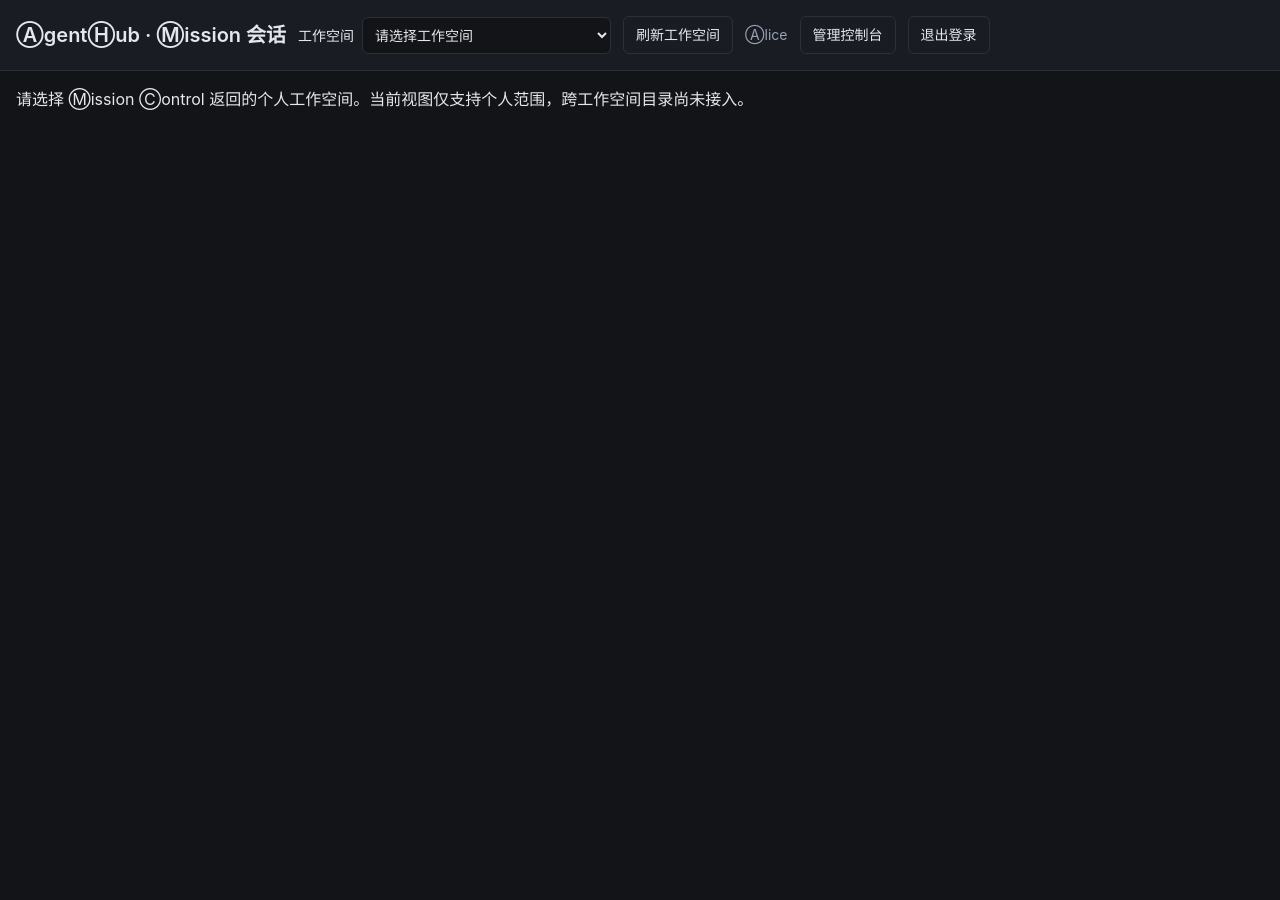
Test case: Native Mission workspace › observes a selected exact native Mission with no submission and keeps history read-only
Select "个人工作空间 (workspace-1)" in the dropdown labelled "工作空间". click: (487, 35)
box: [362,16,611,54]
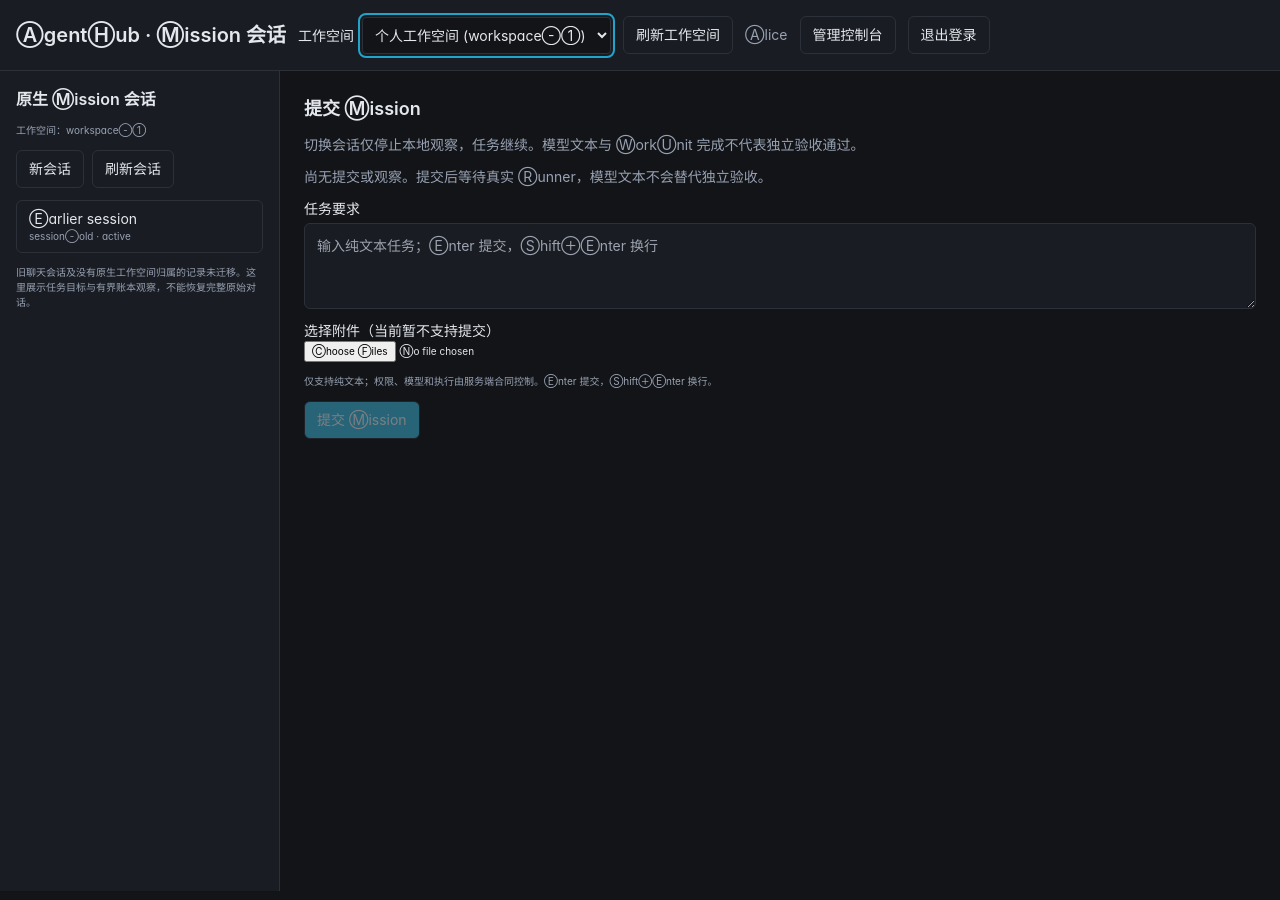
Type "old unsent draft" into the text box labelled "任务要求". click: (780, 266)
box: [304,223,1256,309]
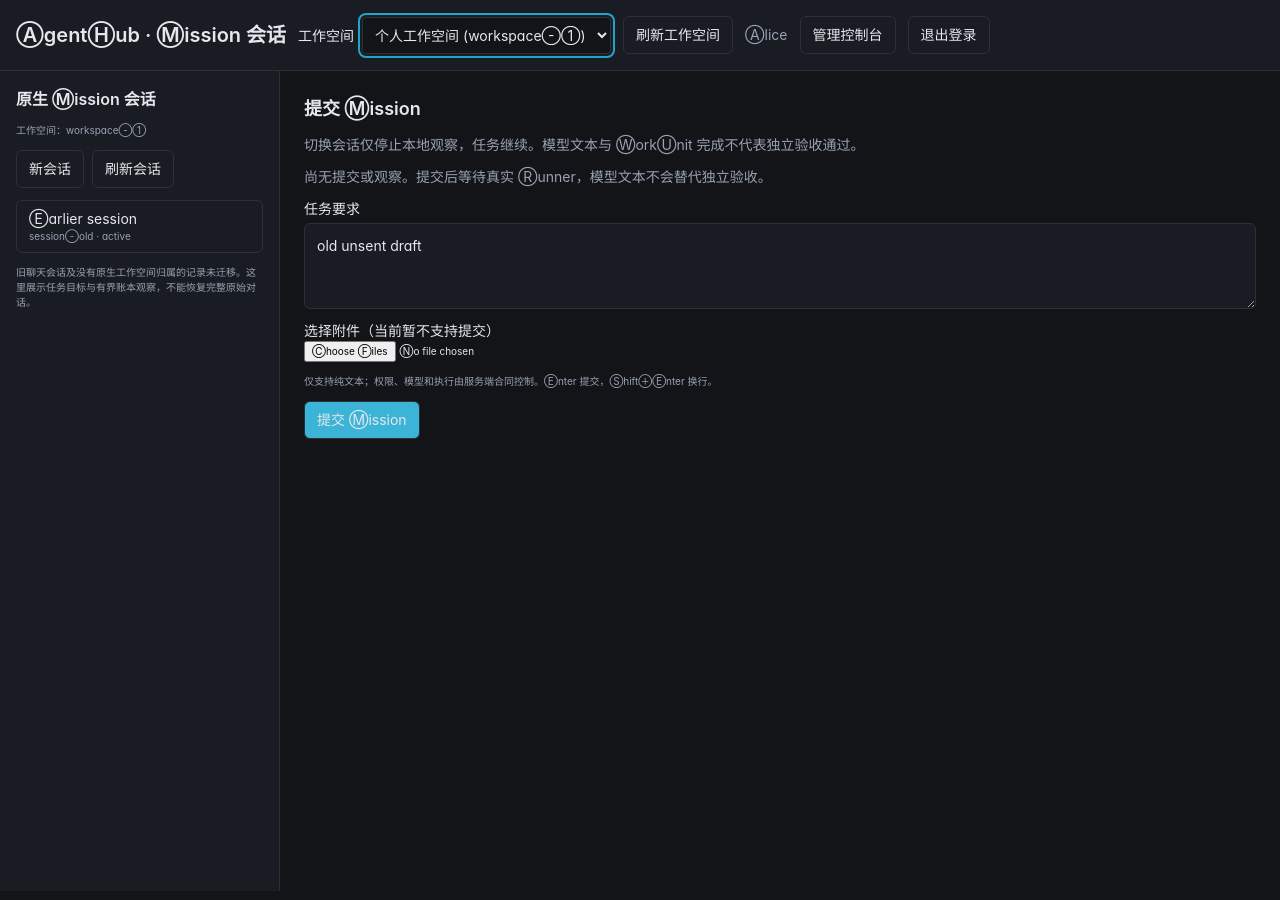
Click the button with aria-label "打开会话 Earlier session". click: (140, 226)
box: [16,200,263,253]
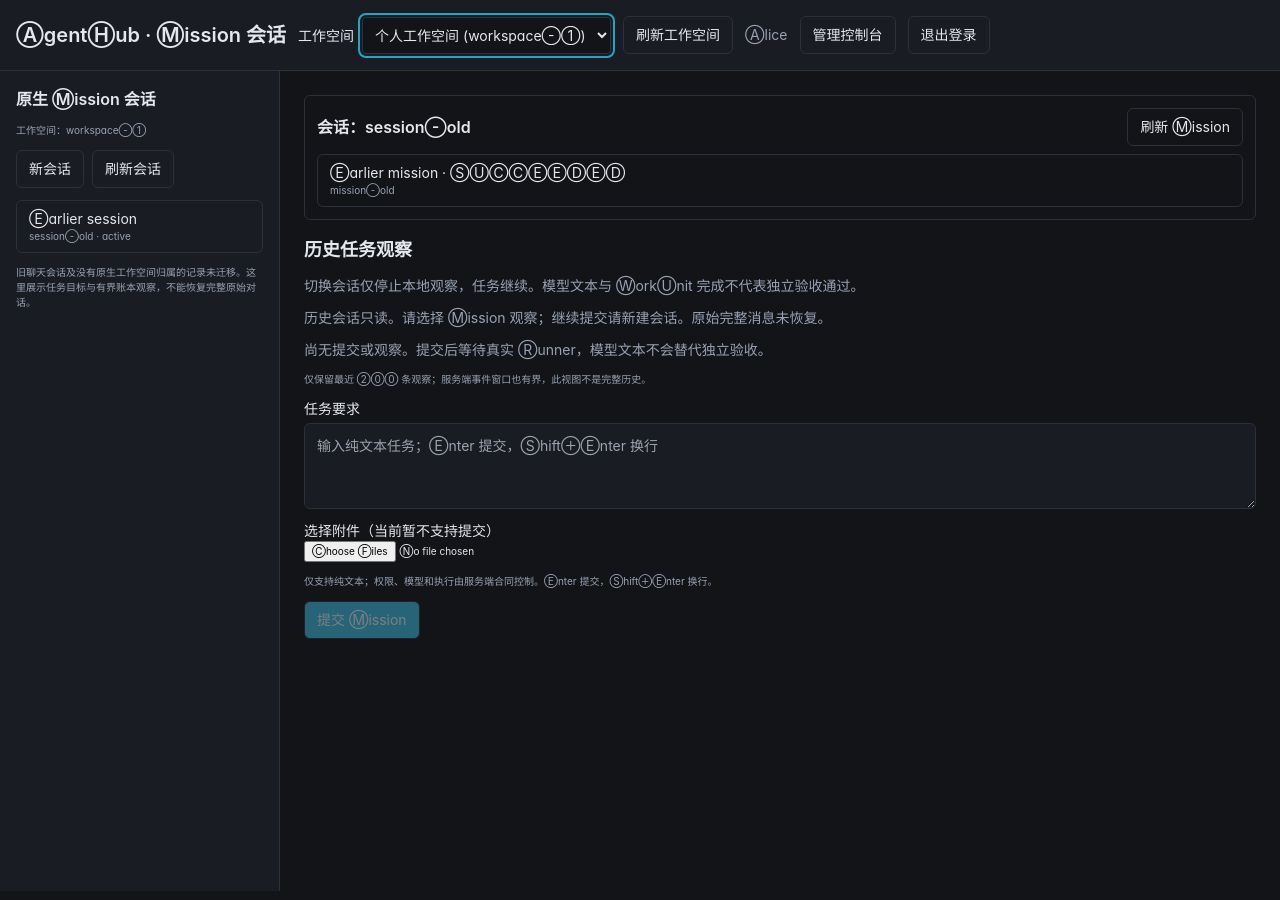
Now the text box labelled "任务要求" is empty, box [304,423,1256,509]
Click the button with aria-label "观察 Mission Earlier mission". click: (384, 172)
box: [317,154,1243,207]
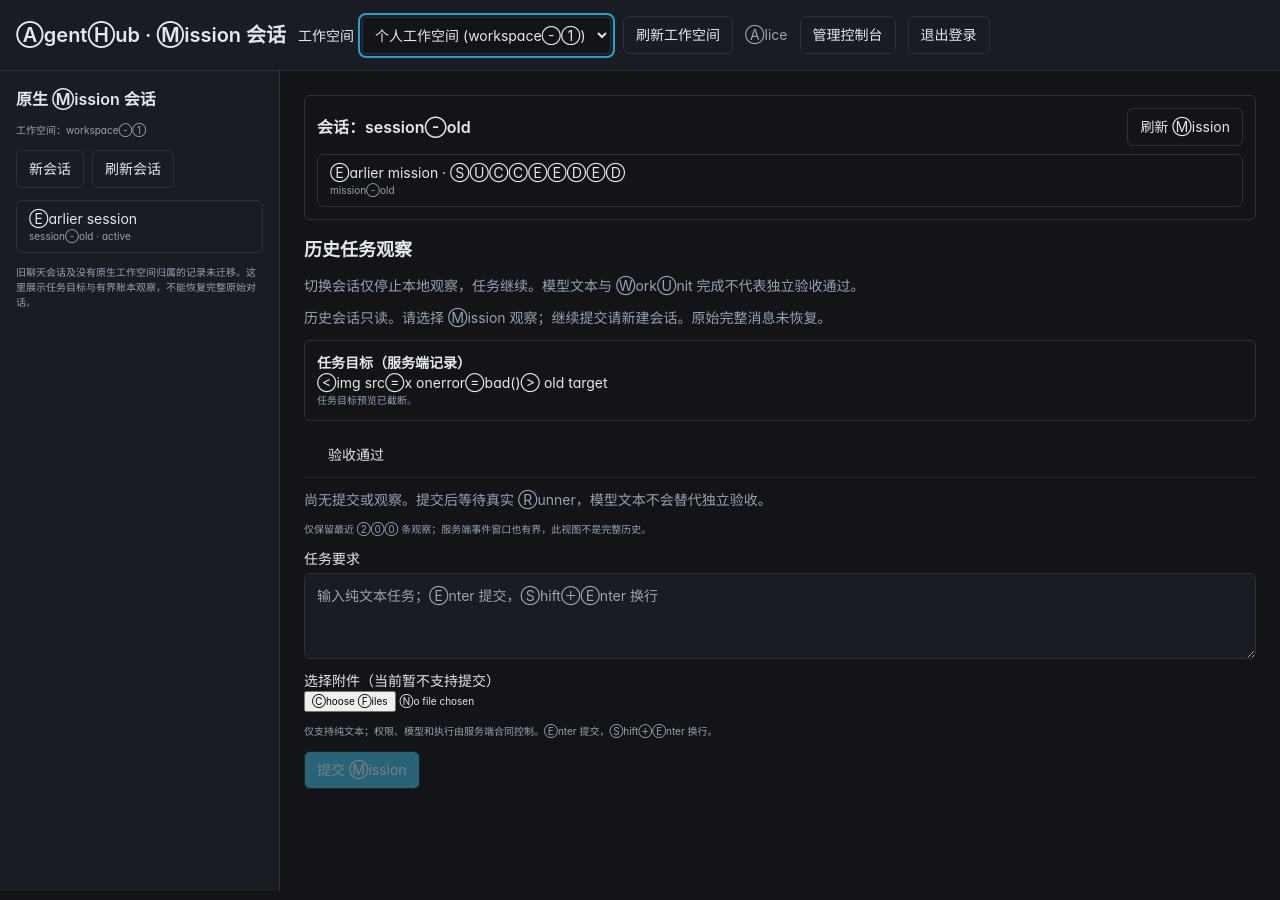
Now the text "<img src=x onerror=bad()> old target" is shown, box [317,374,608,391]
Now the text "任务目标预览已截断。" is shown, box [317,394,417,406]
Type "cannot continue from incomplete history" into the text box labelled "任务要求". click: (780, 616)
box: [304,573,1256,659]
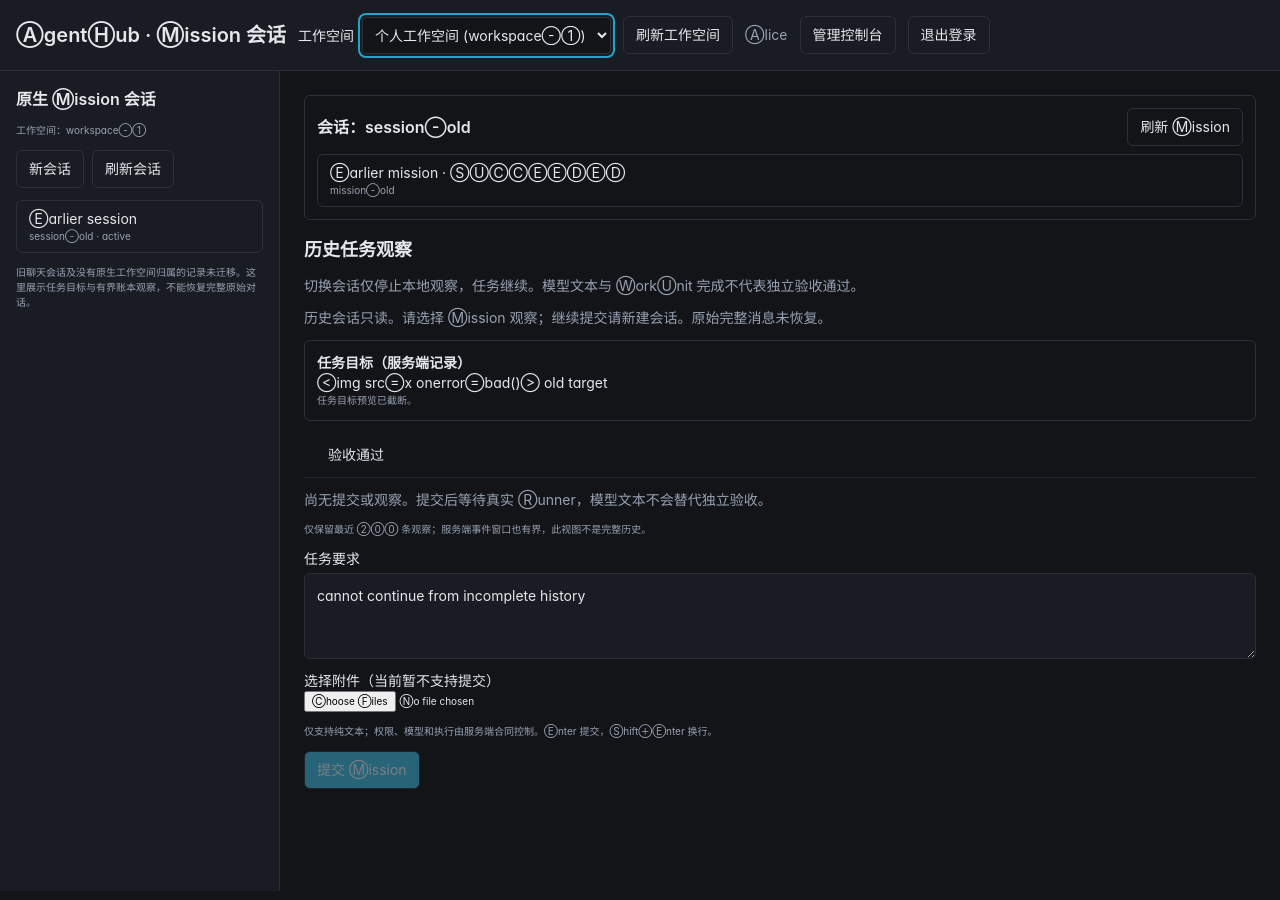
Now the button "提交 Mission" is disabled, box [304,751,420,789]
Click the button "新会话". click: (50, 169)
box: [16,150,84,188]
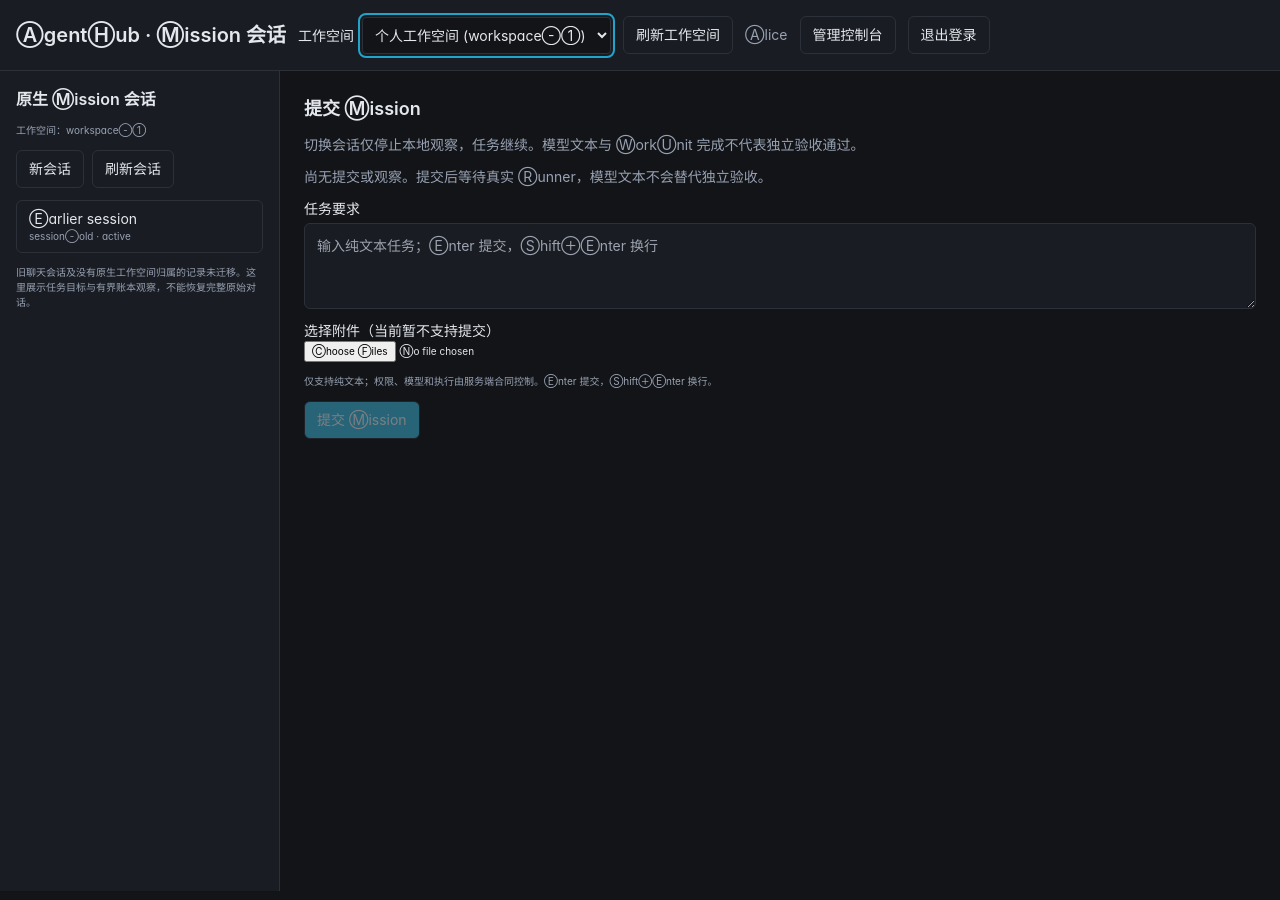
Now the text box labelled "任务要求" is empty, box [304,223,1256,309]
Now the text "<img src=x onerror=bad()> old target" is gone
